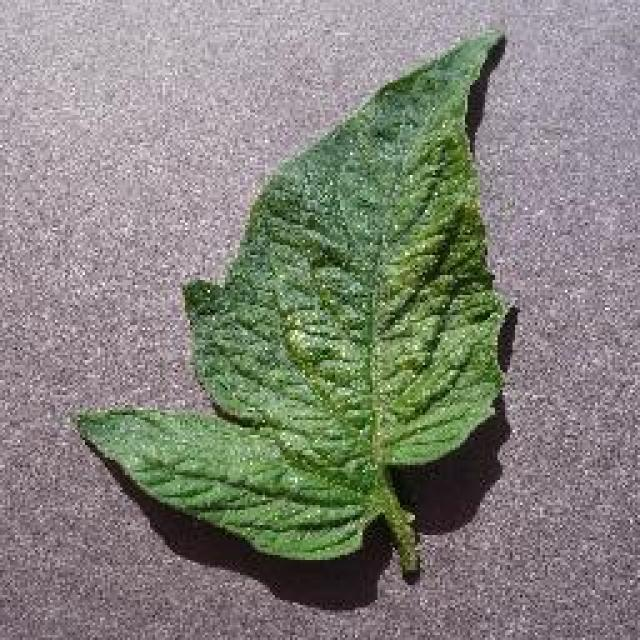Tomato___Spider_mites Two-spotted_spider_mite: (75, 32, 505, 570)
